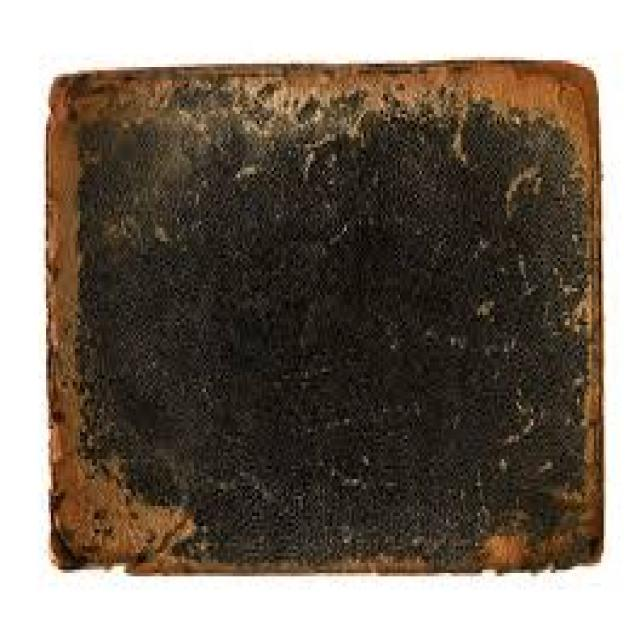Rotten surface: (194, 76, 566, 156), (66, 363, 214, 547)
